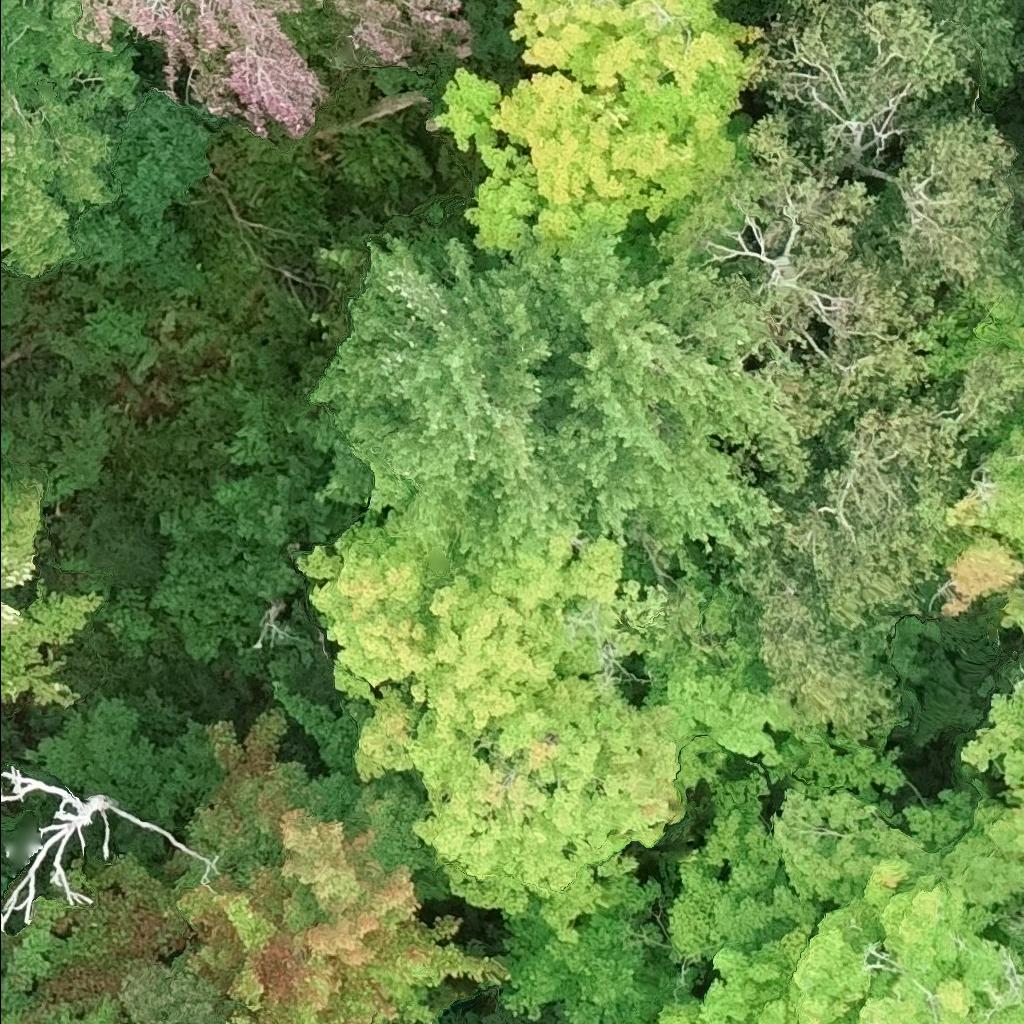crown: (9, 681, 510, 1023), (301, 510, 684, 925), (658, 668, 1023, 1023), (659, 120, 949, 438), (438, 0, 763, 281), (525, 236, 805, 555), (313, 236, 565, 567), (769, 357, 1023, 632), (752, 0, 1017, 164), (0, 766, 215, 929), (741, 534, 898, 745), (876, 116, 1023, 293), (499, 879, 667, 1023), (943, 397, 1023, 611), (0, 582, 98, 702), (935, 273, 1023, 372), (0, 478, 40, 591), (0, 931, 29, 1023), (44, 991, 122, 1023), (998, 577, 1023, 652), (0, 870, 17, 913), (0, 1009, 25, 1023), (229, 1017, 254, 1023), (625, 1020, 643, 1023)
